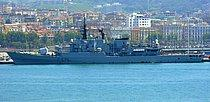MIL_Ship: (3, 18, 204, 64)
